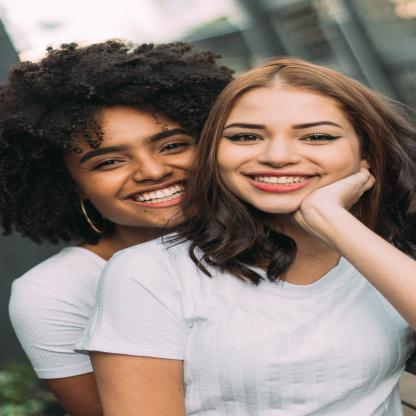Eye: (296, 128, 343, 147), (82, 154, 132, 171), (150, 138, 192, 156), (223, 130, 267, 146)
Mouth: (236, 166, 317, 193), (122, 182, 193, 207)
Nose: (130, 153, 176, 183), (257, 136, 301, 166)
